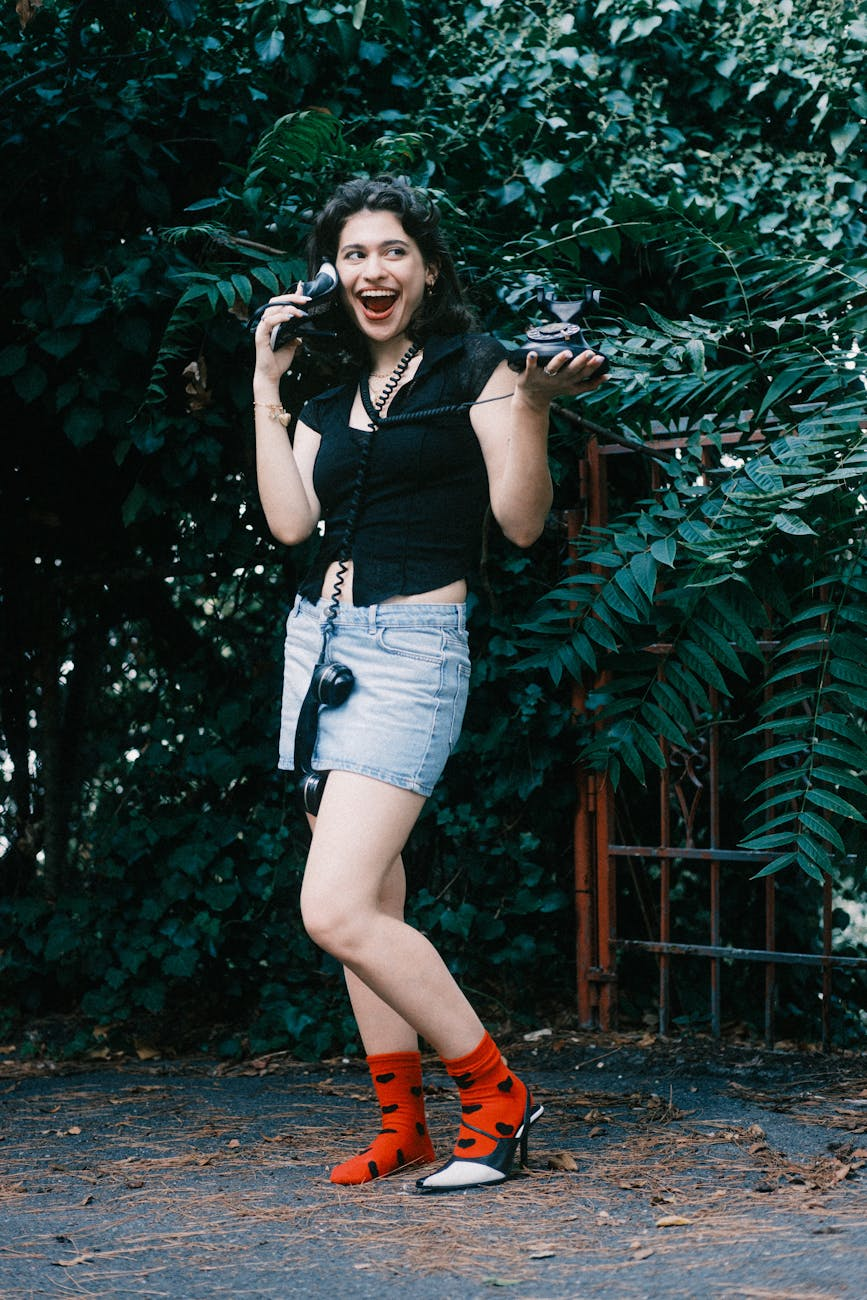crop_top: (281, 370, 515, 607)
opened_foot: (328, 1058, 442, 1183), (437, 1070, 538, 1178)
shorts: (275, 587, 489, 794)
